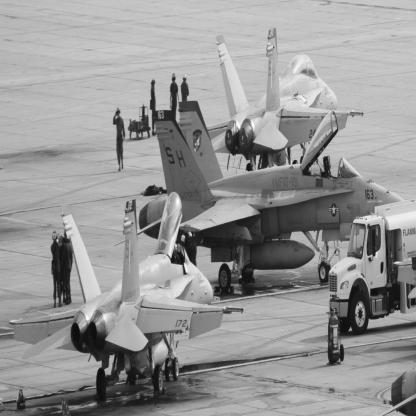F18: (115, 101, 405, 293), (10, 193, 245, 400), (207, 28, 339, 173)
